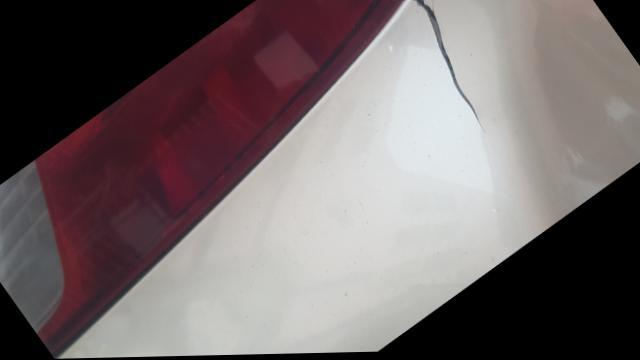crack: (407, 0, 487, 139)
